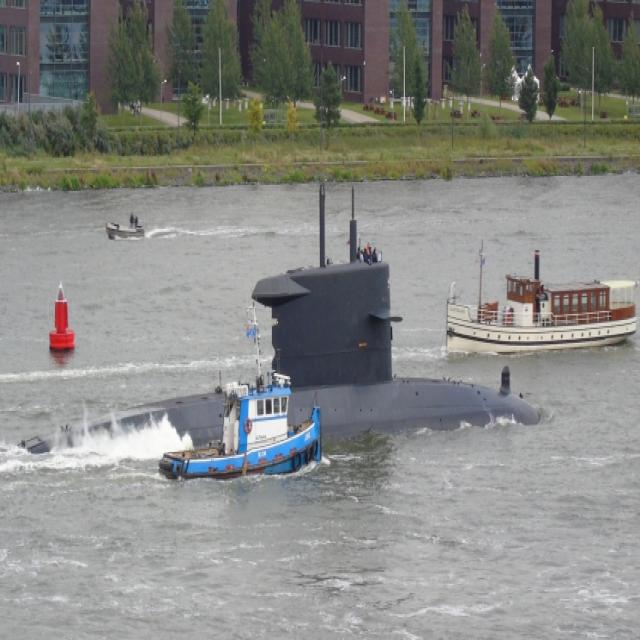submarine: (16, 179, 553, 455)
